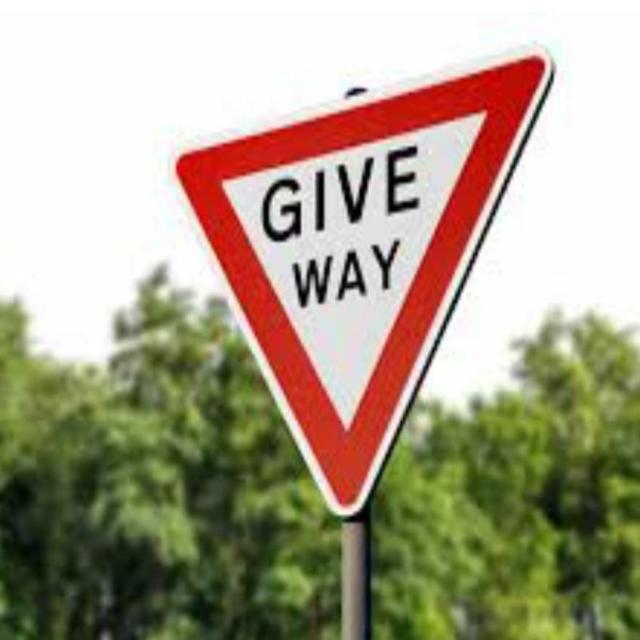giveway: (173, 44, 557, 514)
